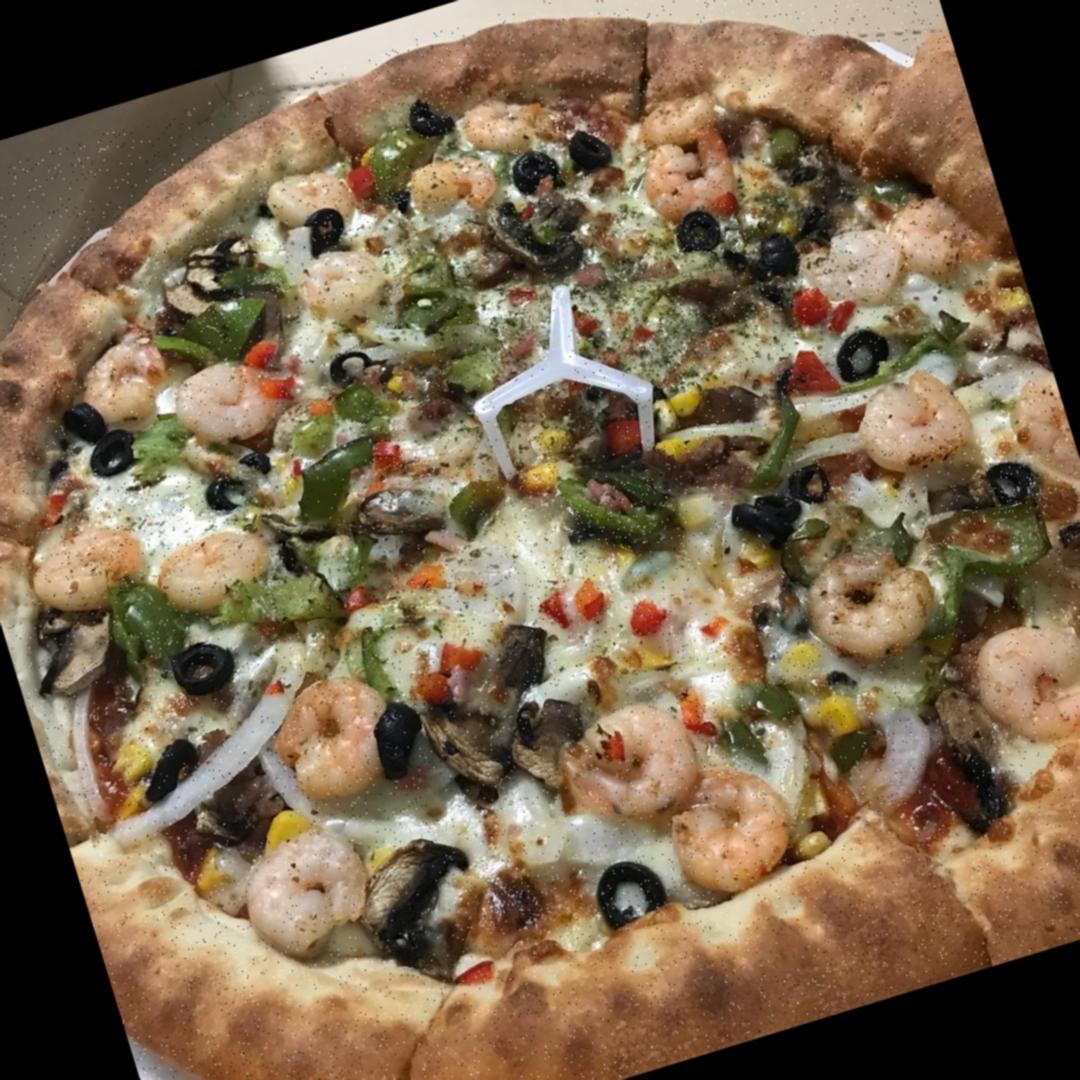Corn: (812, 687, 867, 740), (512, 457, 566, 506), (776, 634, 823, 684), (184, 852, 234, 894), (263, 811, 310, 853), (530, 424, 576, 463), (666, 384, 708, 419), (379, 368, 416, 404), (652, 437, 694, 468)
Olives: (59, 394, 149, 493), (592, 856, 676, 934), (734, 477, 818, 548), (296, 190, 357, 259), (395, 86, 465, 146), (312, 342, 382, 399), (176, 638, 239, 700), (830, 322, 893, 384), (985, 453, 1047, 516), (671, 205, 735, 264), (750, 228, 803, 296), (508, 141, 564, 203), (565, 127, 621, 186)
Peppers: (276, 417, 430, 560), (146, 266, 305, 380), (559, 472, 682, 570), (398, 248, 490, 332), (345, 146, 410, 216)
Pizza: (0, 0, 1080, 1080)
Tomatoes: (405, 657, 461, 713), (786, 286, 832, 337), (626, 596, 669, 639), (243, 336, 288, 375), (676, 688, 712, 736), (372, 432, 409, 476), (573, 582, 613, 621), (435, 642, 479, 676), (535, 587, 574, 622), (348, 162, 377, 197), (260, 376, 295, 404)
